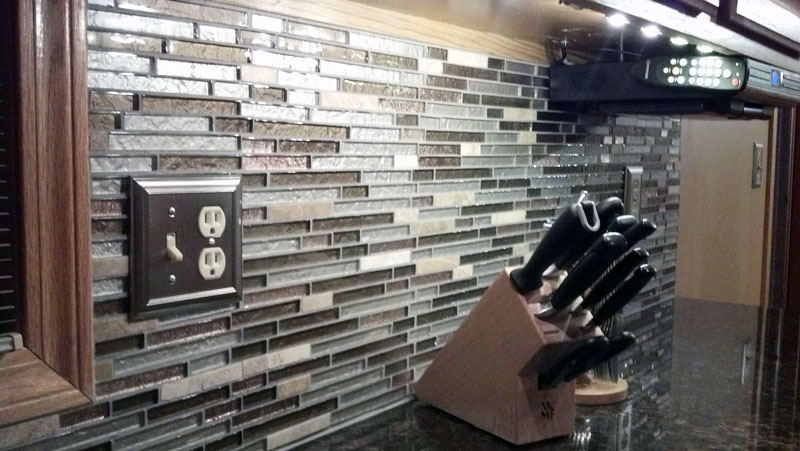outlet: (201, 248, 221, 278), (201, 208, 220, 236)
